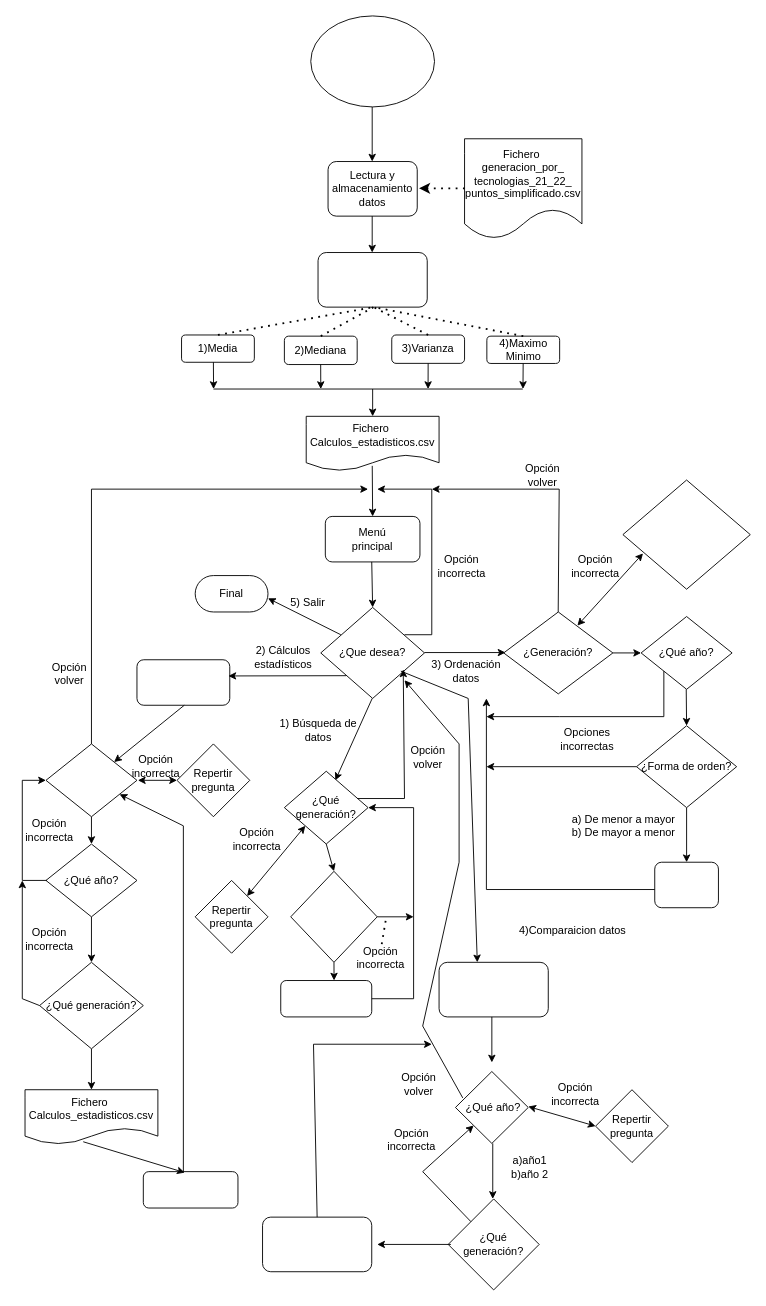
This 766x1306 diagram has some shape labels left out. The box of each missing label's shape, as (x1, y1, x2, y2) in pixels:
"Opcion incorrecta" repetir intinto: (622, 479, 750, 589)
Apertura de programa: (310, 15, 435, 107)
Calcular las estadísticas mensuales (2021 y 2022): (317, 252, 427, 307)
Menu Comparación datos: (438, 961, 548, 1017)
Menú cálculos: (136, 659, 230, 705)
Mostrar el dato pedido: (280, 980, 372, 1017)
Mostrar resultado: (142, 1171, 238, 1208)
Mostrar resultados: (262, 1216, 372, 1272)
Ordenación deseada: (654, 861, 718, 908)
¿Que dato? (24 en total): (290, 870, 377, 962)
¿Qué cálculo?: (45, 743, 137, 817)
